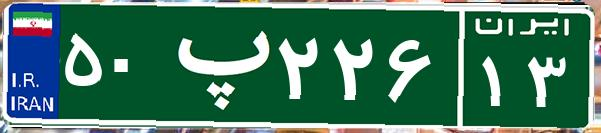0: (110, 28, 158, 105)
1: (475, 38, 525, 113)
2: (273, 28, 330, 110), (330, 28, 385, 110)
3: (525, 38, 570, 115)
5: (57, 26, 110, 107)
6: (385, 28, 445, 110)
پ: (158, 15, 273, 115)
